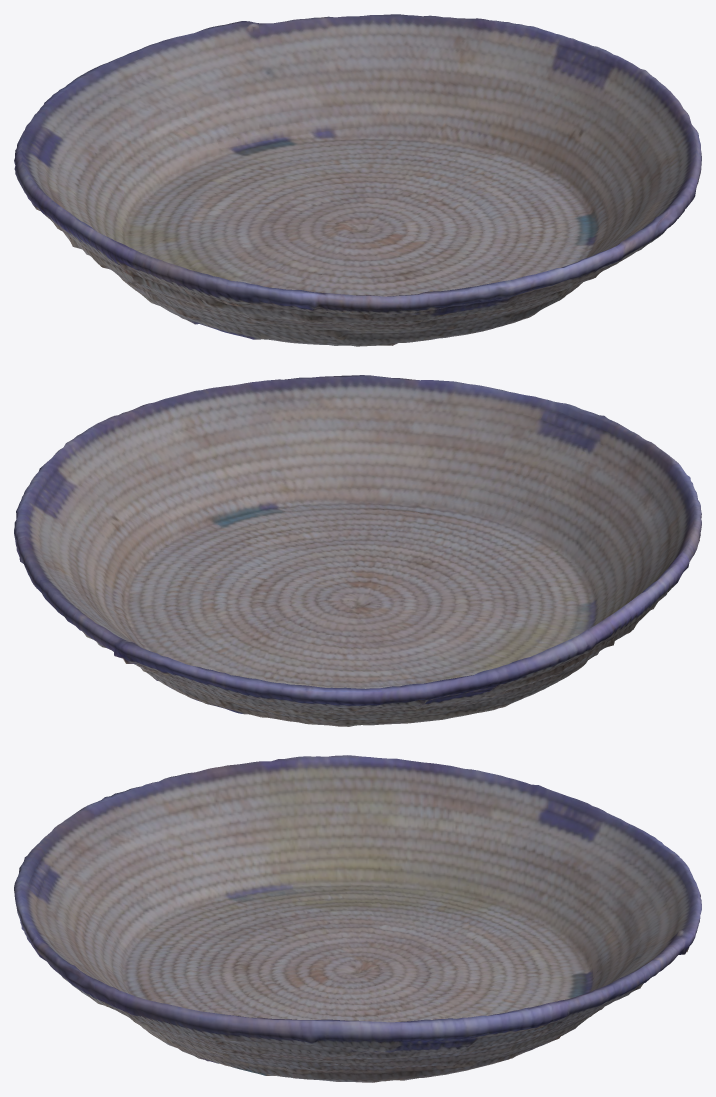
File: bowl.gltf
The picture shows the model from 3 angles, top to bottom: view 1: azimuth 30°, elevation 25°; view 2: azimuth 150°, elevation 25°; view 3: azimuth 270°, elevation 25°; orthographic projection. The views are drawn at different scales.
Parts seen in each view (by area): view 1: model-hi_fixed; view 2: model-hi_fixed; view 3: model-hi_fixed.
Part boxes in pixels (bbox=[...]): model-hi_fixed: bbox=[14, 14, 701, 346]; model-hi_fixed: bbox=[14, 375, 701, 726]; model-hi_fixed: bbox=[14, 755, 701, 1082].
Bounding box in the file's own units: 40.16 × 7.44 × 42.04.
1 material, 1 textured.
